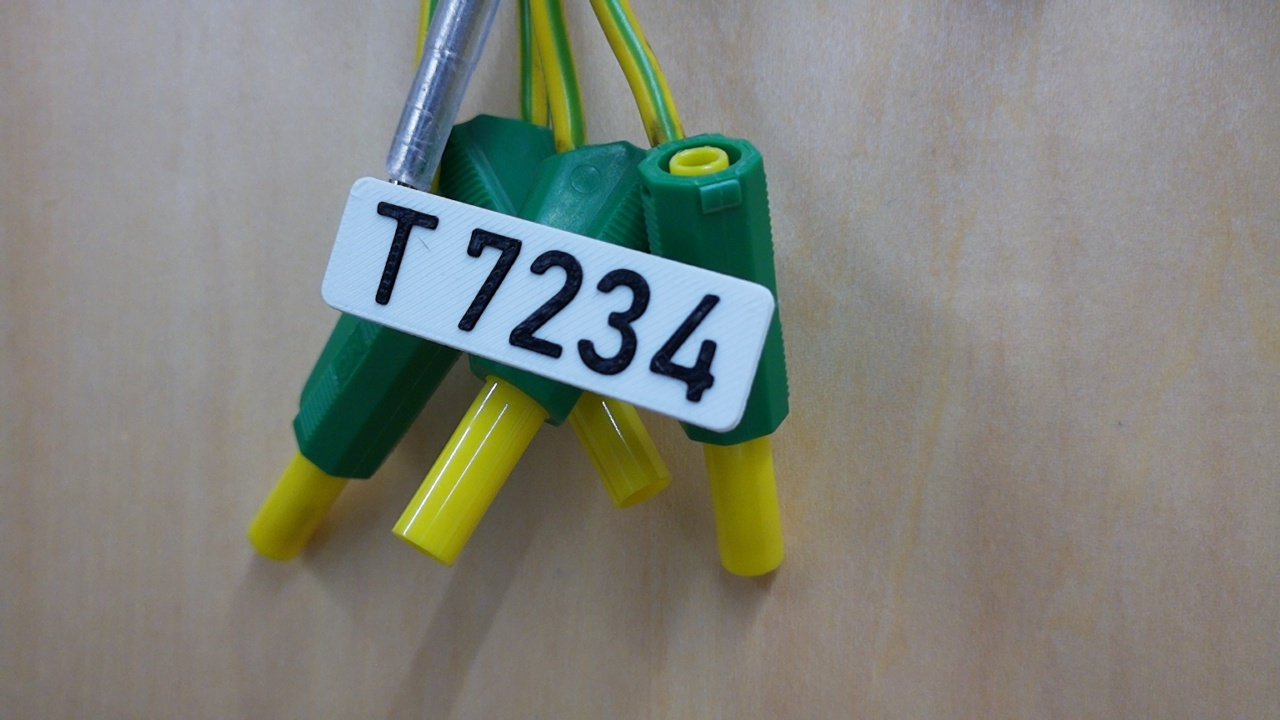license_plate: (320, 172, 779, 436)
